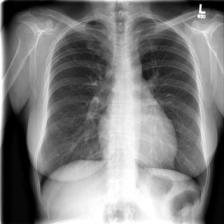normal: (29, 14, 211, 205)
